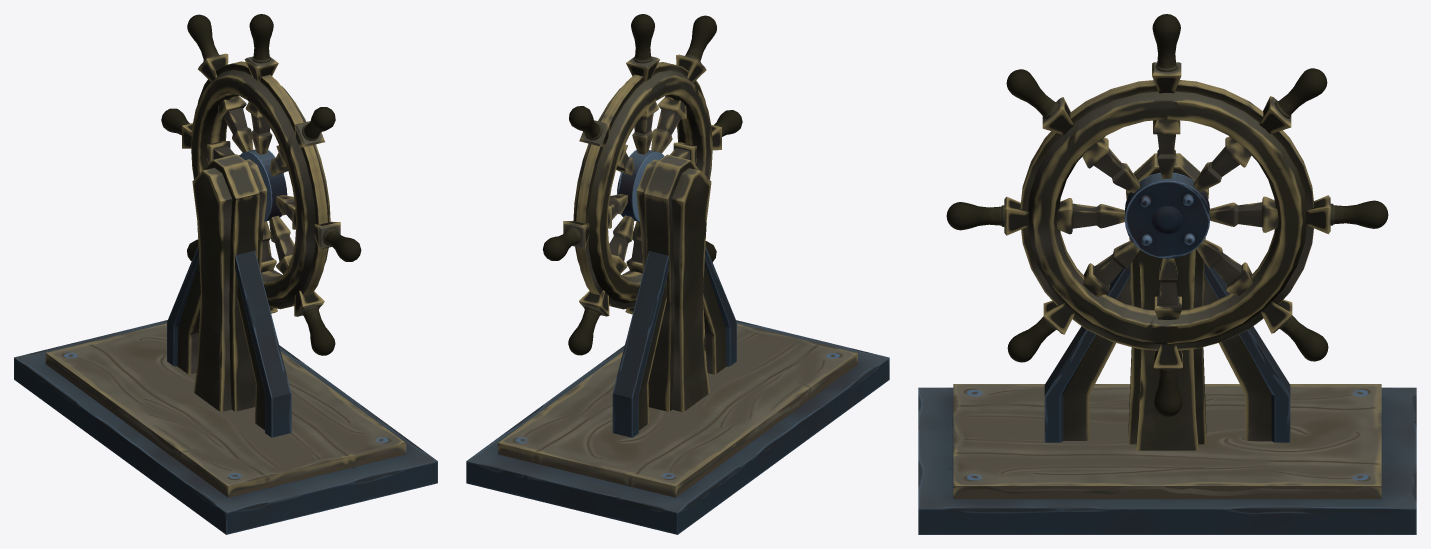
File: SM_Ship_Wheel.fbx
3 views of the same model, side by side, from view 1: azimuth 30°, elevation 25°; view 2: azimuth 150°, elevation 25°; view 3: azimuth 270°, elevation 25° (orthographic). The views are drawn at different scales.
Parts seen in each view (by area): view 1: SM_Ship_Wheel_LOD0; view 2: SM_Ship_Wheel_LOD0; view 3: SM_Ship_Wheel_LOD0.
Boxes of the visible parts, x1,y1,x2,y2 form: SM_Ship_Wheel_LOD0: (14,14,437,534); SM_Ship_Wheel_LOD0: (466,14,889,534); SM_Ship_Wheel_LOD0: (918,14,1416,534).
Bounding box in the file's own units: 77.03 × 134 × 142.
1 material, 1 textured.
